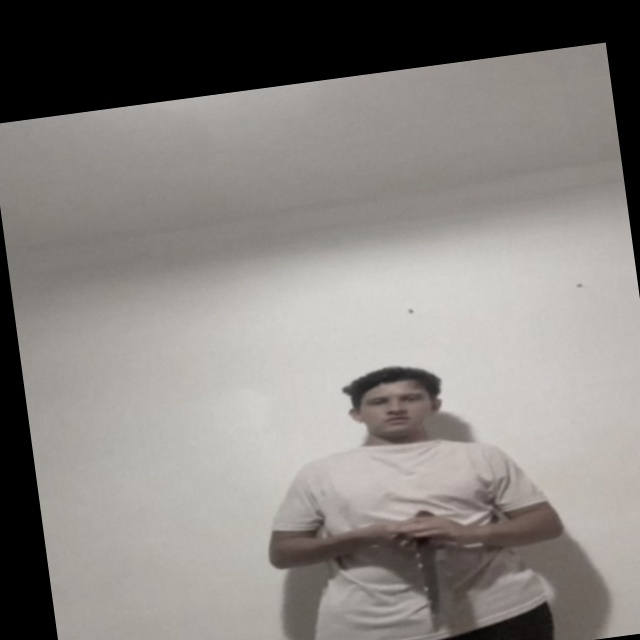Sharp-Object: (412, 548, 447, 617)
